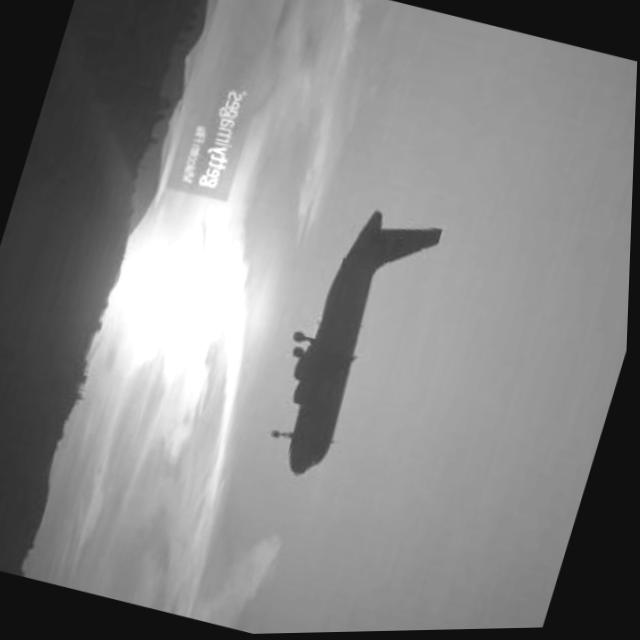aeroplane: (237, 193, 459, 522)
